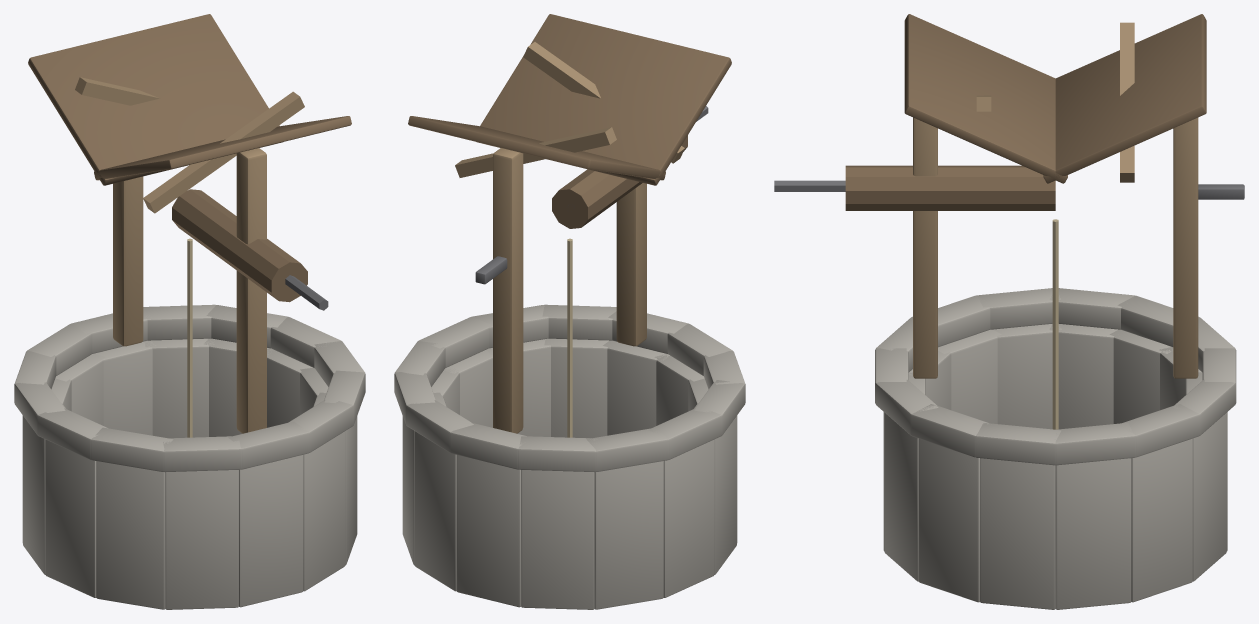
Rendered from well_stone.glb.
3 renders of one model, left to right at view 1: azimuth 30°, elevation 25°; view 2: azimuth 150°, elevation 25°; view 3: azimuth 270°, elevation 25°, orthographic. The views are drawn at different scales.
Visible parts, largest first — view 1: well_stone; view 2: well_stone; view 3: well_stone.
Boxes of the visible parts, x1,y1,x2,y2 form: well_stone: (14,14,365,609); well_stone: (394,14,745,609); well_stone: (774,14,1244,609).
Bounding box in the file's own units: 1.76 × 2.51 × 2.24.
